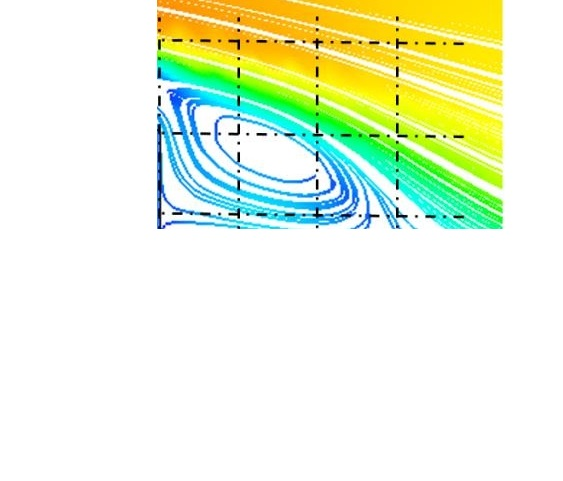vortox: (170, 89, 358, 225)
